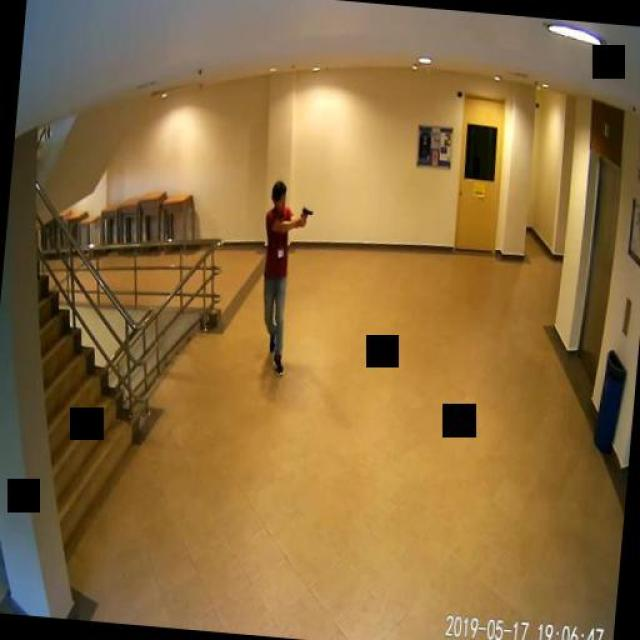gun: (300, 204, 311, 221)
